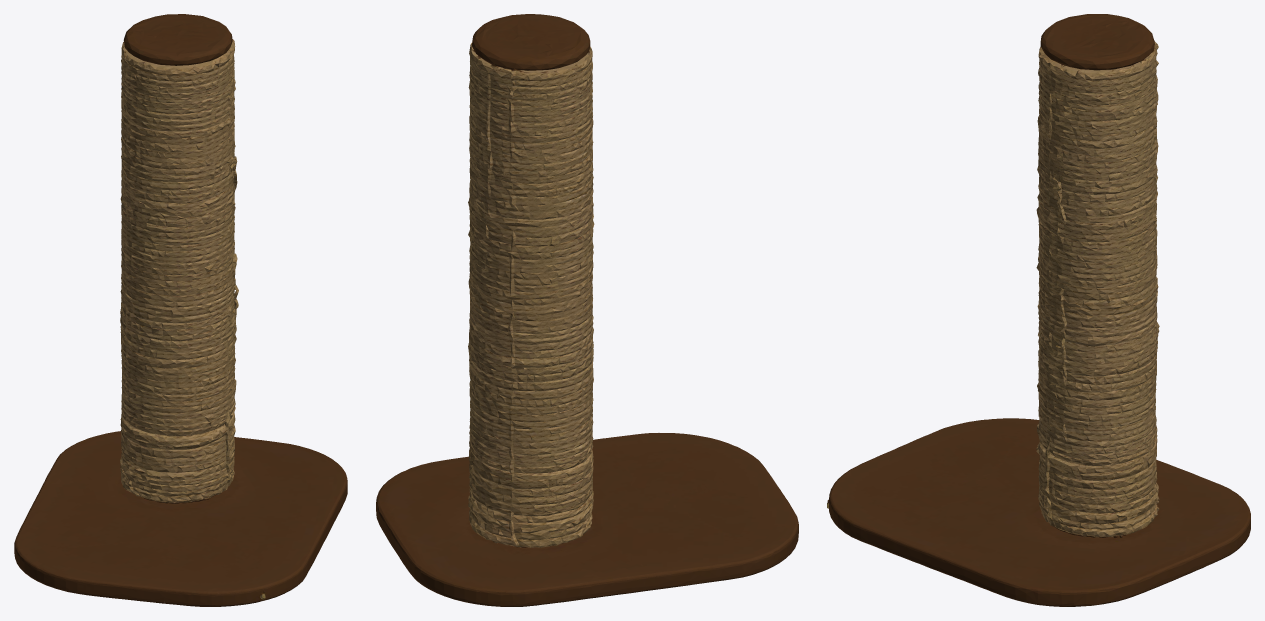
The model's file is ktochka_8.glb.
The picture shows the model from 3 angles, left to right: view 1: azimuth 30°, elevation 25°; view 2: azimuth 150°, elevation 25°; view 3: azimuth 270°, elevation 25°; orthographic projection. The views are drawn at different scales.
Visible parts, largest first — view 1: tripo_node_aa14301f-6b8c-4fef-b2bc-0036c23940c0; view 2: tripo_node_aa14301f-6b8c-4fef-b2bc-0036c23940c0; view 3: tripo_node_aa14301f-6b8c-4fef-b2bc-0036c23940c0.
Boxes of the visible parts, left/top/right/bottom form: tripo_node_aa14301f-6b8c-4fef-b2bc-0036c23940c0: left=14, top=14, right=347, bottom=606; tripo_node_aa14301f-6b8c-4fef-b2bc-0036c23940c0: left=376, top=14, right=798, bottom=606; tripo_node_aa14301f-6b8c-4fef-b2bc-0036c23940c0: left=827, top=14, right=1250, bottom=606.
Size of the model in its own units: 0.752 by 1 by 0.7721.
Materials: 1 (1 with a texture image).
